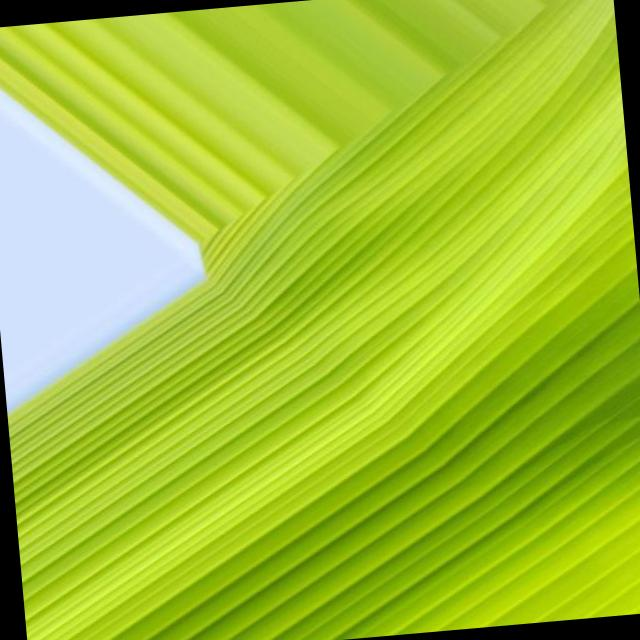Banana_Healthy: (252, 119, 600, 536)
